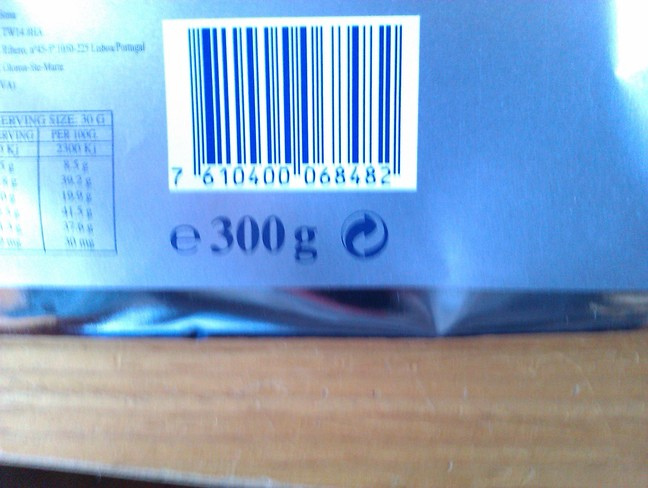barcode: (166, 24, 408, 192)
